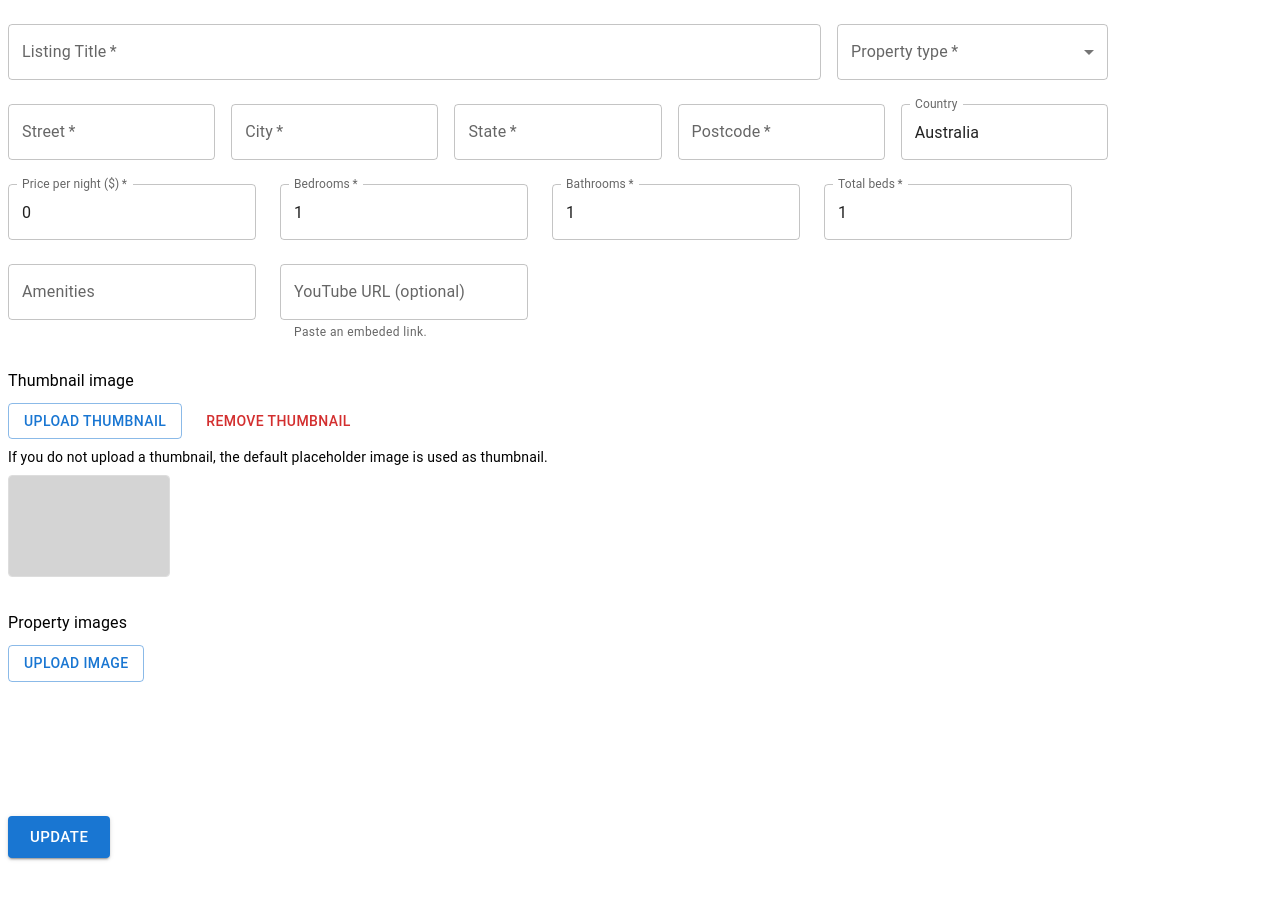
ListingForm › allows user to remove uploaded thumbnail
What coordinates should you click on to do the following:
click the button "Remove thumbnail"
I would click on:
 (279, 421)
Its box is [198,403,359,439].
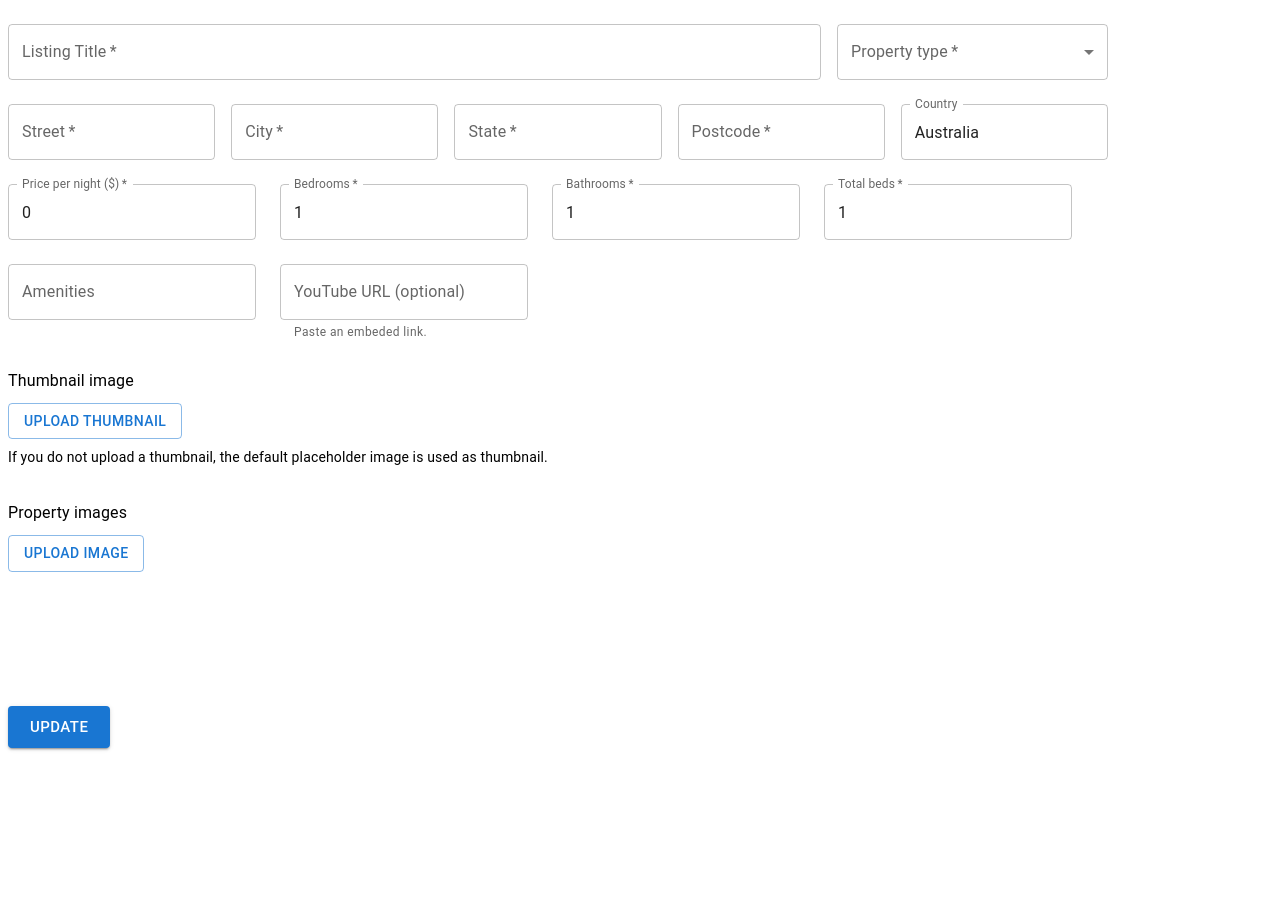
Result: the button "Remove thumbnail" is gone
